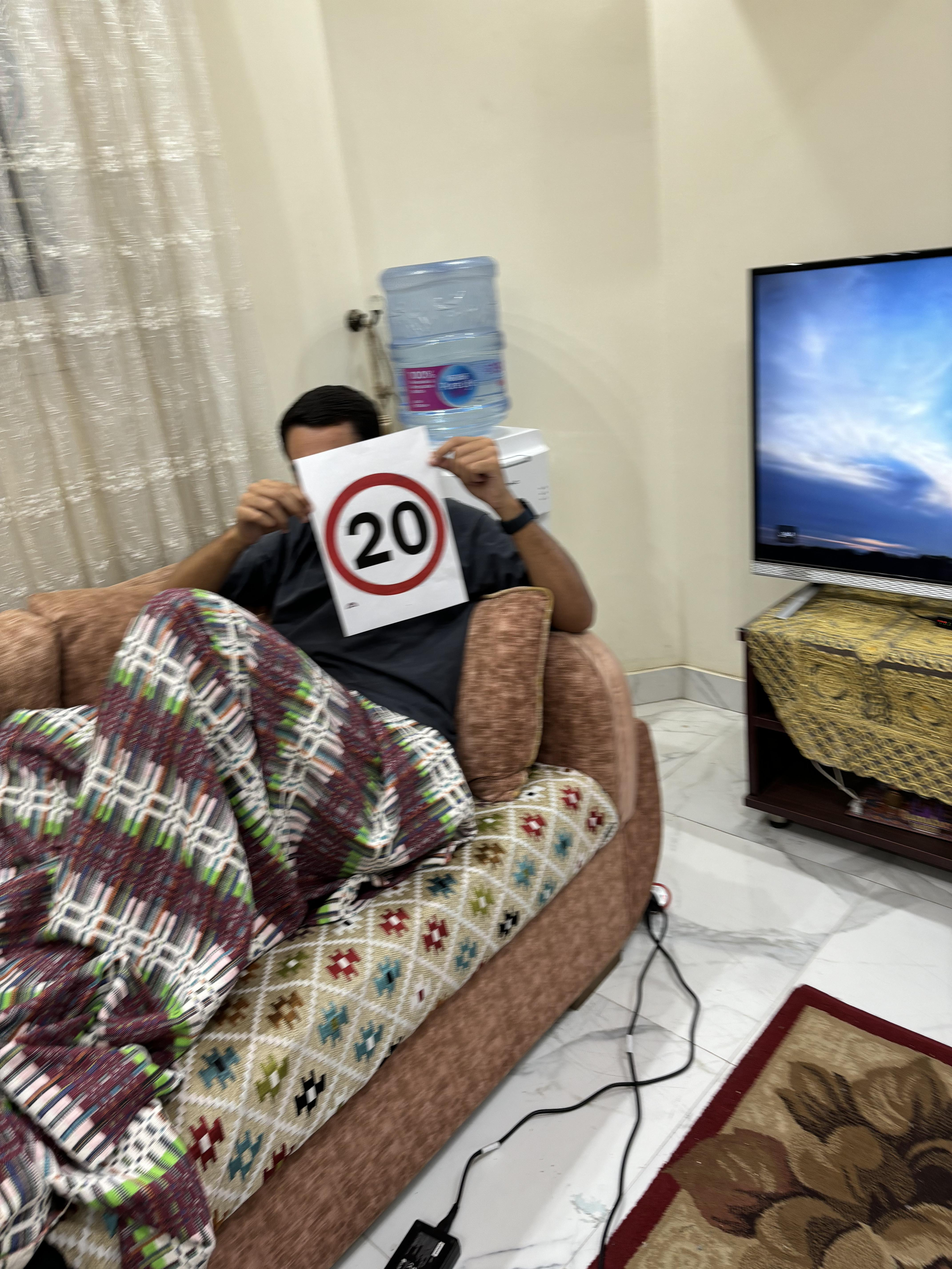20-Speed: (319, 467, 456, 604)
